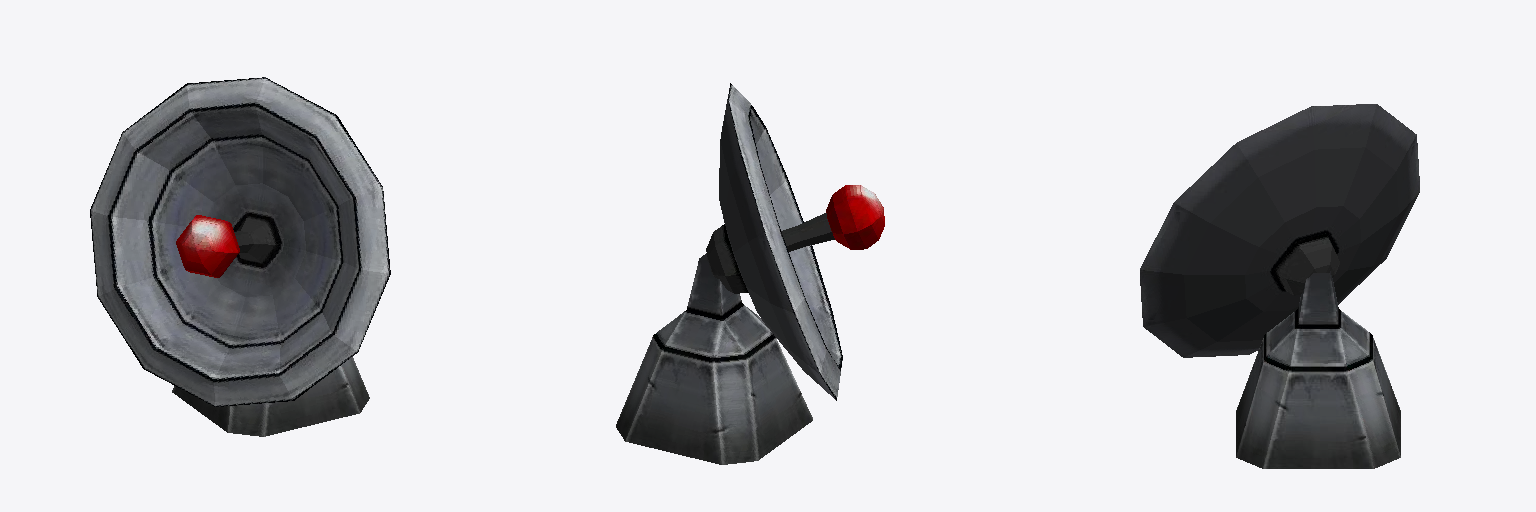
3 renders of one model, left to right at view 1: azimuth 30°, elevation 25°; view 2: azimuth 150°, elevation 25°; view 3: azimuth 270°, elevation 25°, orthographic.
Size of the model in its own units: 55.07 by 80.68 by 63.59.
Materials: 1 (1 with a texture image).